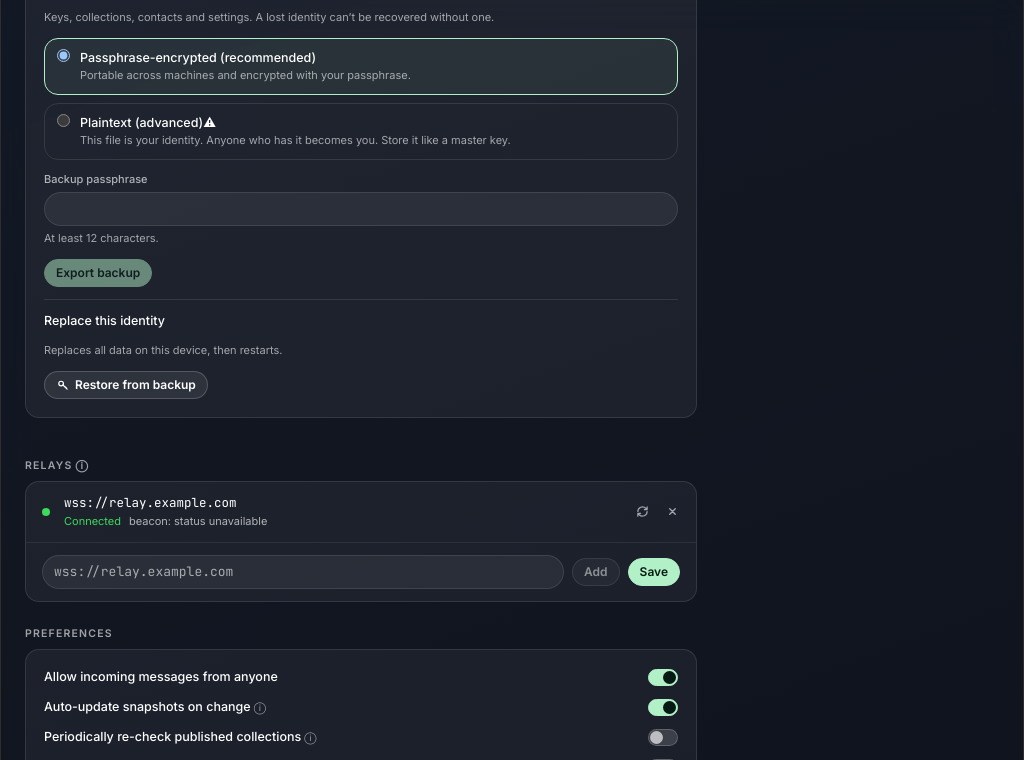
Test case: QURATOR-275 — plaintext header ⇒ unencrypted-file warning + explicit consent › declining the unencrypted-file modal stops the restore: nothing validates, wipes or commits
(page scrolled)
Click the button "Restore from backup": (126, 385) x1=44 y1=371 x2=208 y2=399
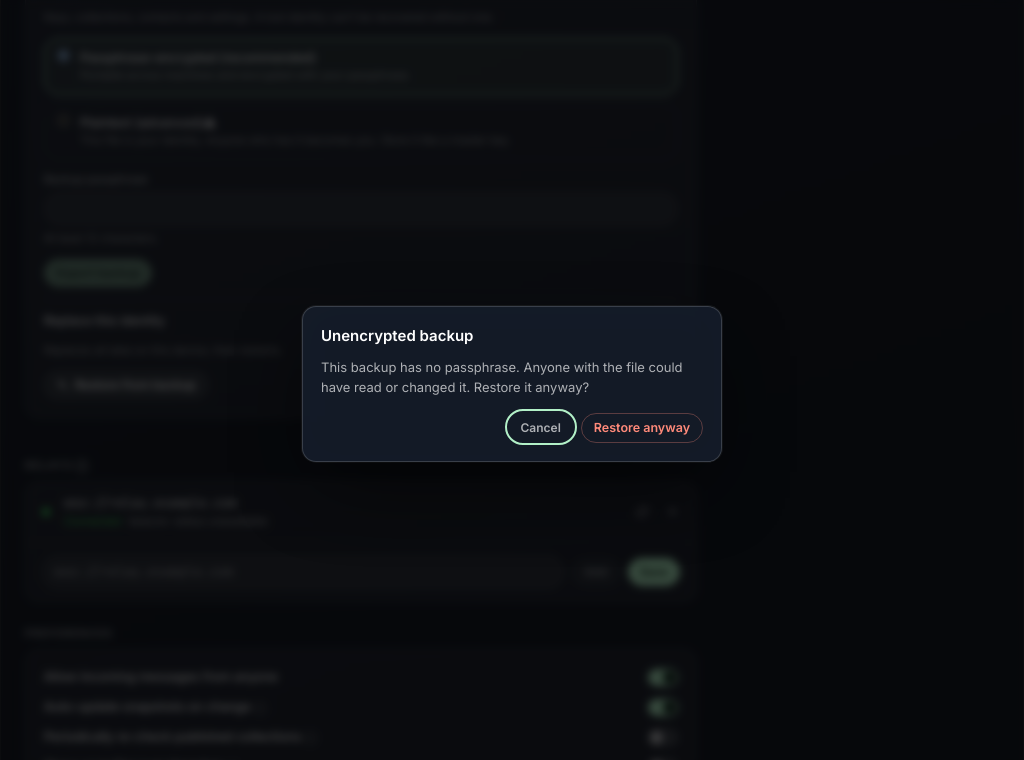
Result: the heading with class "modal-title" reads "Unencrypted backup" at x1=321 y1=326 x2=474 y2=345
Result: the dialog shows "no passphrase" at x1=321 y1=359 x2=683 y2=395
Result: the dialog is shown at x1=302 y1=306 x2=722 y2=462
Click the button "Cancel": (541, 427) x1=508 y1=413 x2=573 y2=441
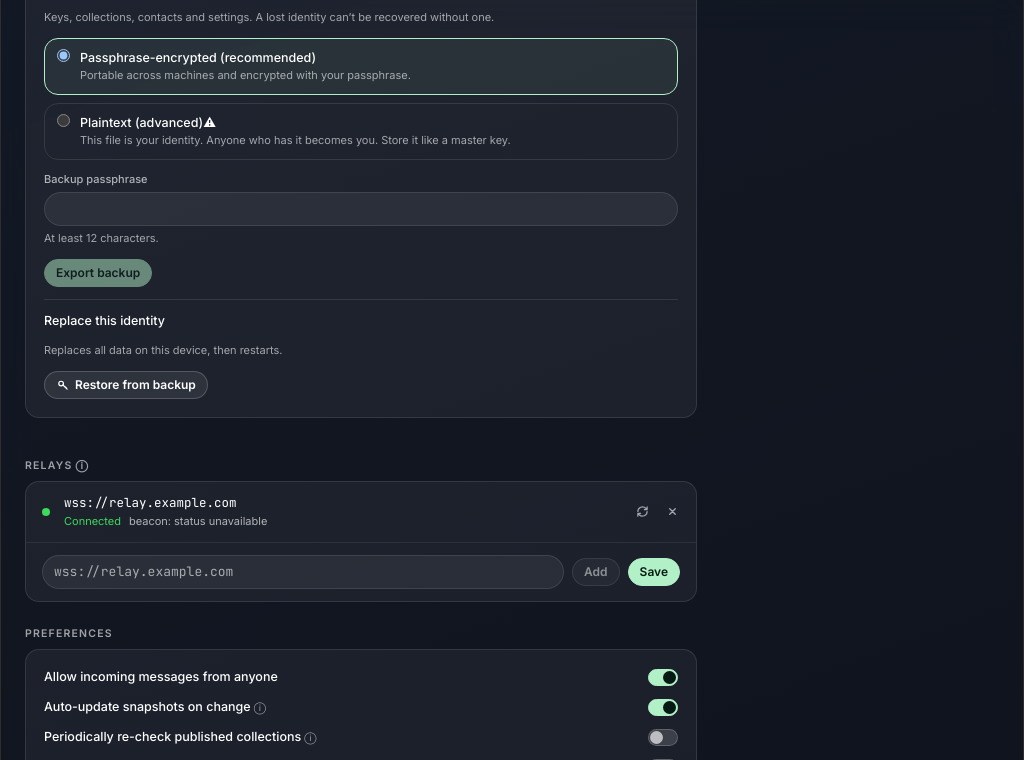
Expected: the button "Restore from backup" is enabled, x1=44 y1=371 x2=208 y2=399
Result: the dialog is gone
